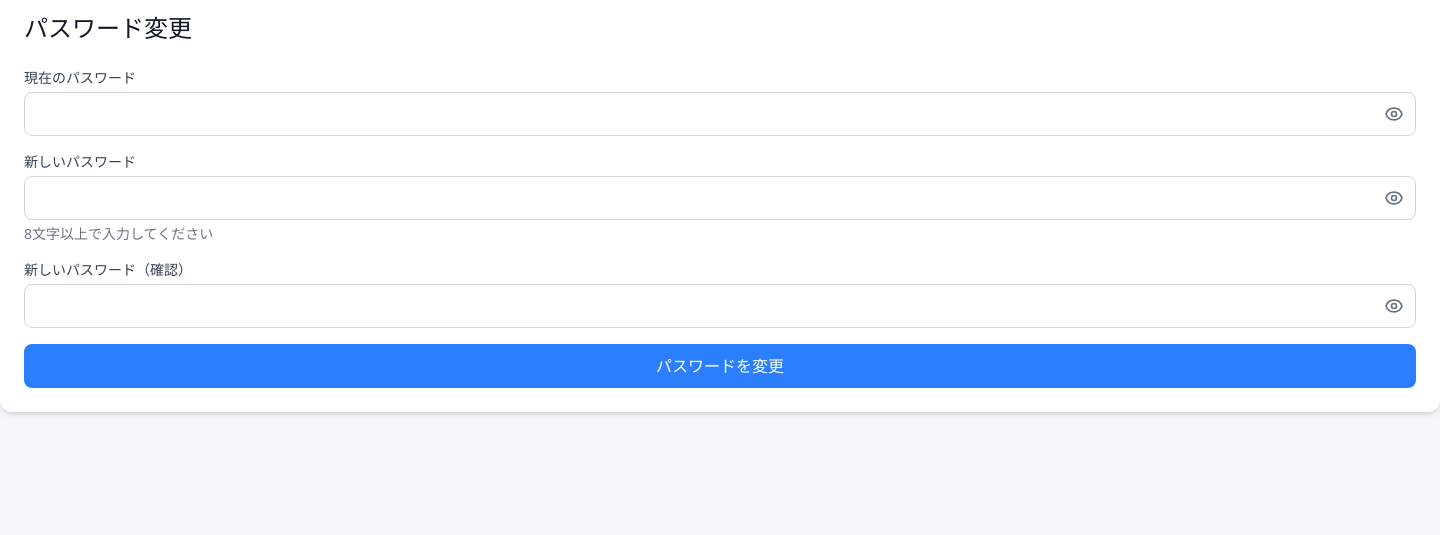
it: PasswordChangeForm › Validation › should show error when all fields are empty
Click the button "パスワードを変更": click(720, 366) [24,344,1416,388]
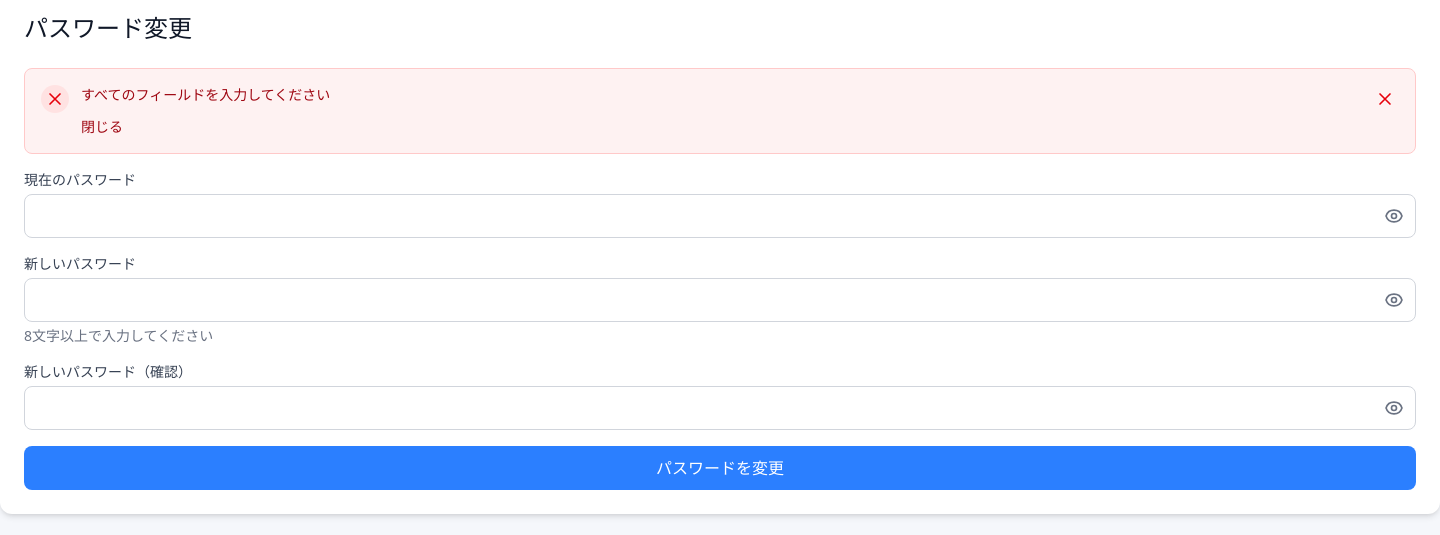
Result: the message shows "すべてのフィールドを入力してください" at [81,85,330,104]
